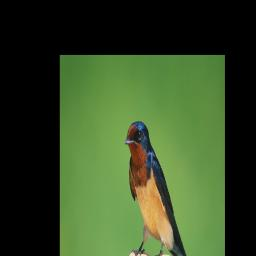Swallow: (124, 119, 188, 256)
